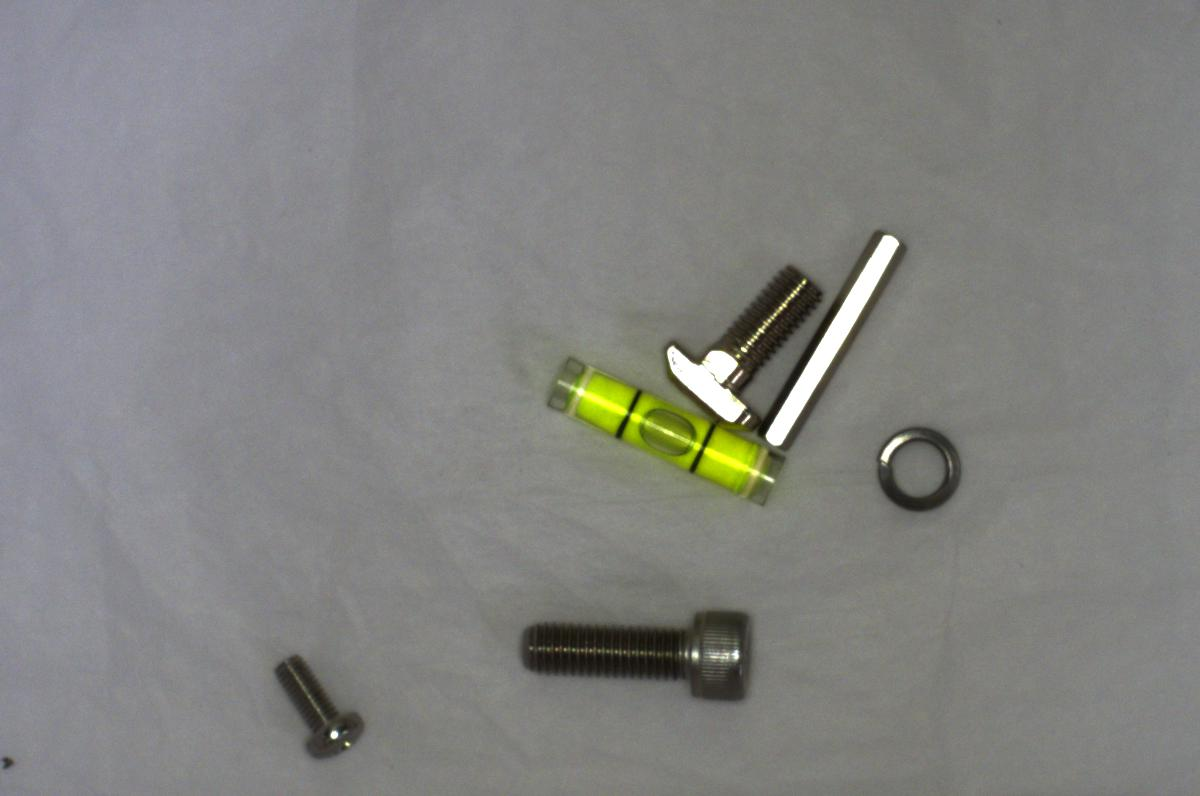Double hexagonal column: (760, 216, 897, 448)
Hexagon screw: (511, 598, 761, 705)
Horizontal bubble: (538, 349, 790, 509)
Round head screw: (268, 648, 366, 767)
Spring washer: (874, 416, 967, 519)
T-shaped screw: (651, 263, 820, 429)
